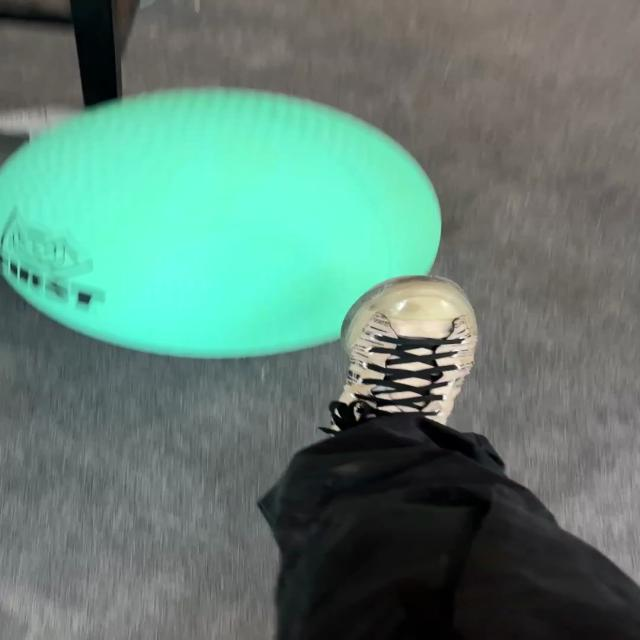Algae: (1, 85, 443, 360)
